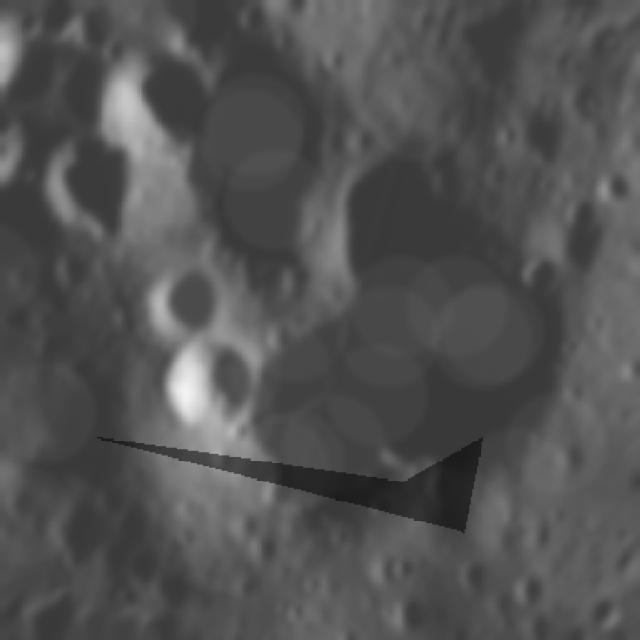crater: (82, 26, 228, 174), (22, 114, 158, 246), (145, 326, 269, 436), (139, 253, 233, 344), (70, 0, 132, 57), (553, 188, 610, 248), (512, 246, 568, 300), (386, 587, 437, 639), (222, 502, 268, 550), (232, 0, 277, 40), (452, 553, 492, 595), (258, 471, 298, 511), (98, 29, 138, 68), (364, 490, 399, 524), (274, 0, 320, 20), (494, 121, 523, 150), (60, 45, 75, 78)
